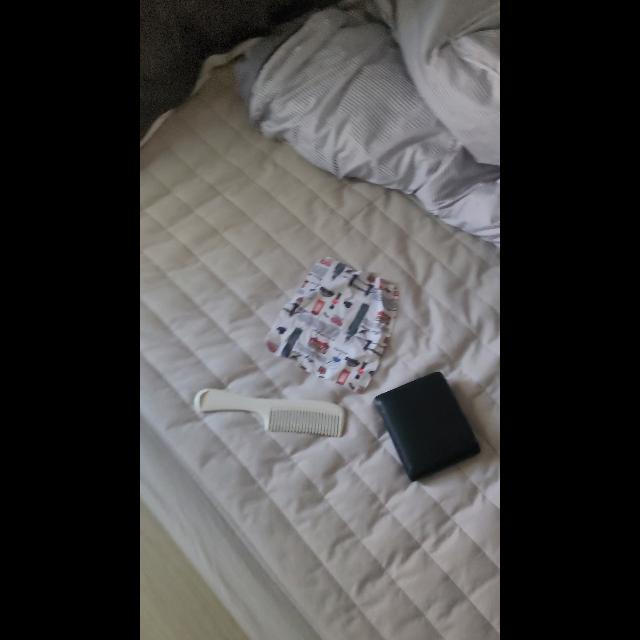COMB: (194, 388, 346, 438)
Glasses cleaning cloth: (264, 256, 400, 394)
WALLET: (374, 372, 481, 482)
